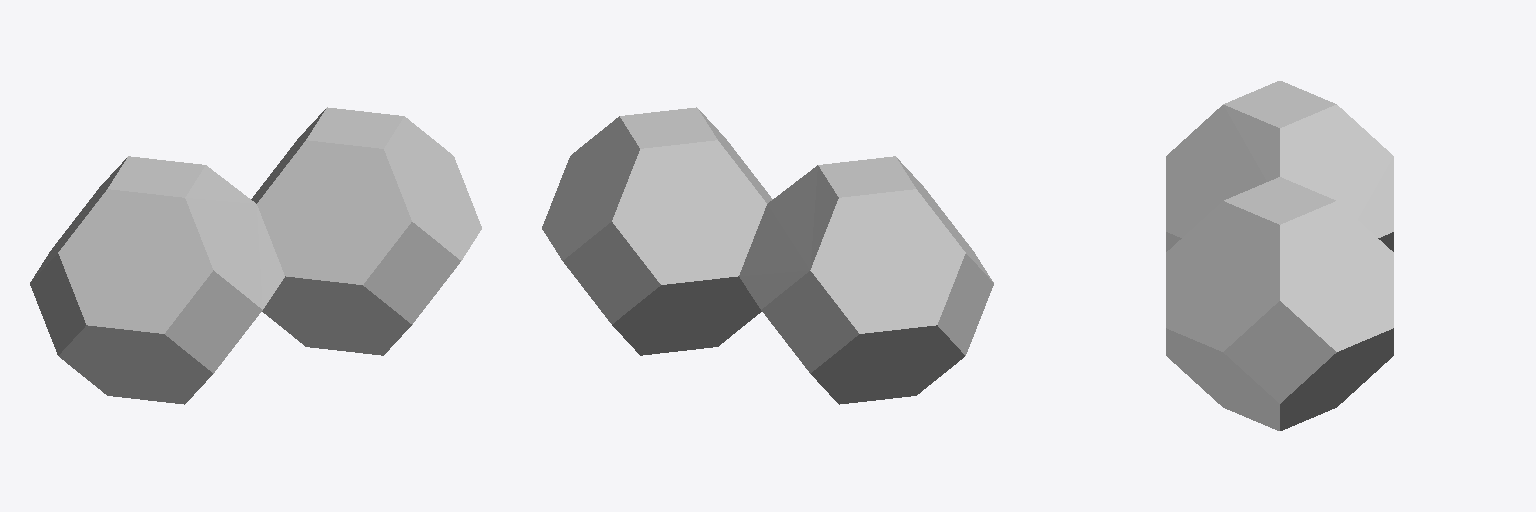
Rendered from fcc2.obj.
The picture shows the model from 3 angles: view 1: azimuth 30°, elevation 25°; view 2: azimuth 150°, elevation 25°; view 3: azimuth 270°, elevation 25°; orthographic projection.
Visible parts, largest first — view 1: SketchUp_ID3, SketchUp.001_ID3.001; view 2: SketchUp_ID3, SketchUp.001_ID3.001; view 3: SketchUp.001_ID3.001, SketchUp_ID3.
Boxes of the visible parts, x1=… form: SketchUp_ID3: x1=30, y1=156, x2=284, y2=404; SketchUp.001_ID3.001: x1=251, y1=107, x2=481, y2=355; SketchUp_ID3: x1=739, y1=156, x2=993, y2=404; SketchUp.001_ID3.001: x1=542, y1=107, x2=772, y2=355; SketchUp.001_ID3.001: x1=1166, y1=177, x2=1393, y2=430; SketchUp_ID3: x1=1166, y1=81, x2=1393, y2=251.
Bounding box in the file's own units: 2.43 × 1.22 × 1.21.